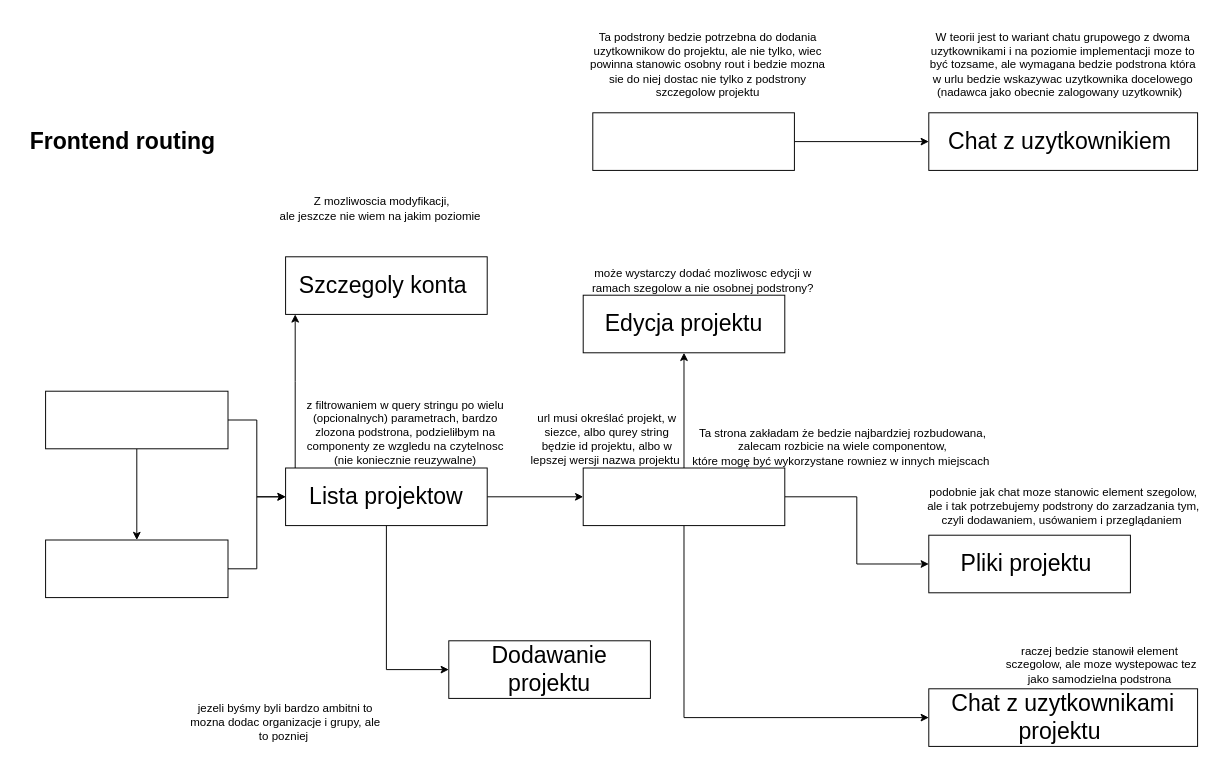
This 1228x763 diagram has some shape labels left out. Each missing label, with the centre of its shape:
"Logowanie" goes at [136,419].
"Rejestracja" goes at [136,568].
"Szczegoly projektu" goes at [683,496].
"Wyszukiwarka uzytkownikow" goes at [693,141].
